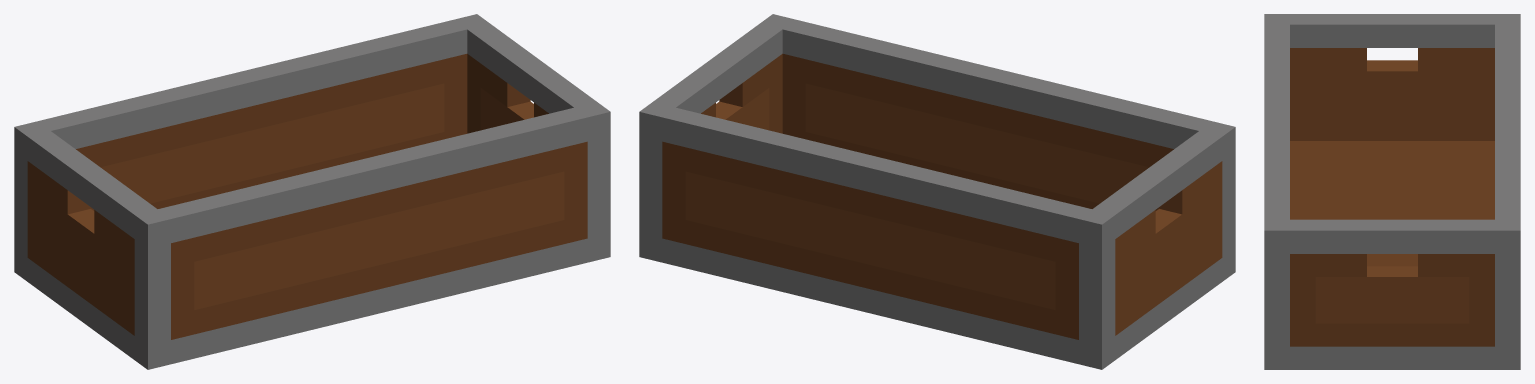
File: pirate_chest_bottom.dae
3 renders of one model, left to right at view 1: azimuth 30°, elevation 25°; view 2: azimuth 150°, elevation 25°; view 3: azimuth 270°, elevation 25°, orthographic. The views are drawn at different scales.
Visible parts, largest first — view 1: PlaneCOL; view 2: PlaneCOL; view 3: PlaneCOL.
Boxes of the visible parts, box(x1,y1,x2,y2) form: PlaneCOL: box(14, 14, 610, 369); PlaneCOL: box(639, 14, 1235, 369); PlaneCOL: box(1264, 14, 1520, 369).
Size of the model in its own units: 2 by 1 by 0.6.
